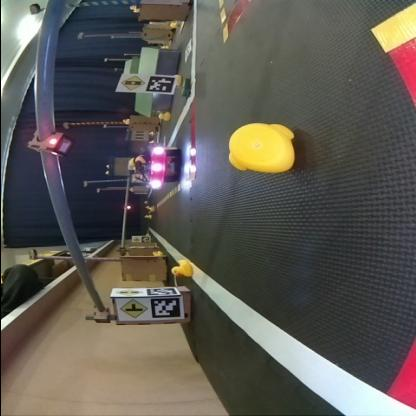Duckie: (226, 122, 295, 172), (170, 260, 192, 275), (157, 112, 169, 120), (152, 250, 162, 256), (120, 118, 128, 124), (148, 206, 154, 212), (144, 214, 151, 218)
Duckiebot: (143, 146, 177, 184)
Intersection sign: (114, 298, 148, 320)
QR code: (152, 296, 180, 318), (146, 74, 172, 92), (148, 286, 174, 295)
Signal sign: (118, 74, 143, 92), (112, 288, 141, 296)
Traffic light: (28, 132, 70, 155), (122, 205, 128, 210)
